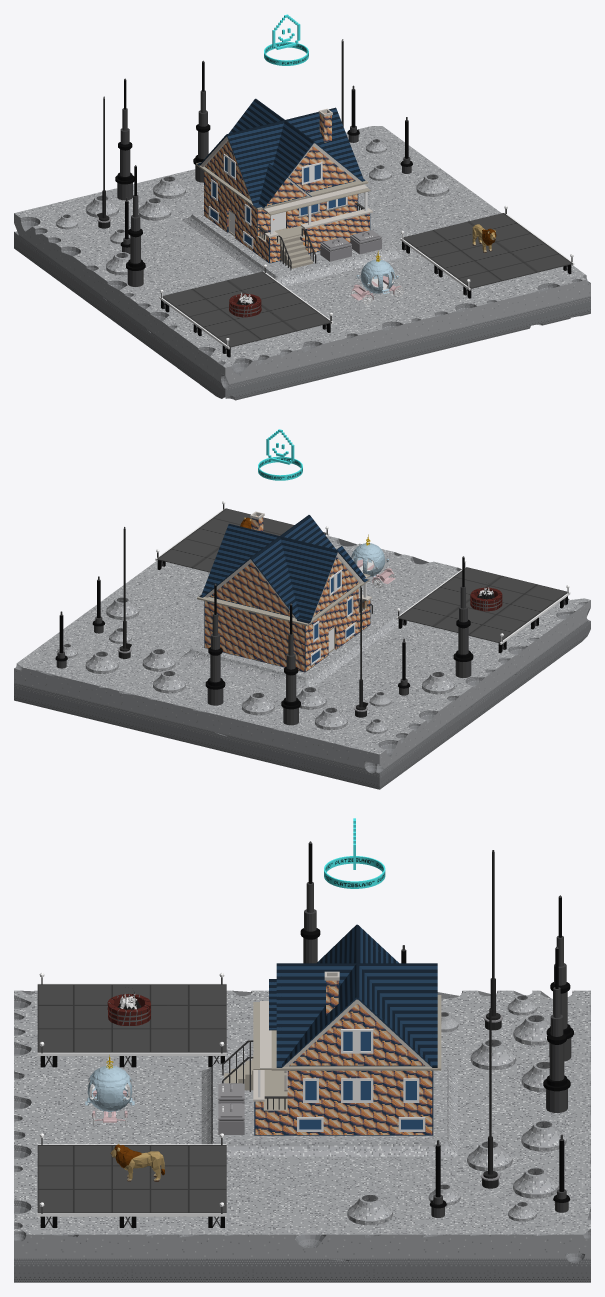
3 views of the same model, one above another, from view 1: azimuth 30°, elevation 25°; view 2: azimuth 150°, elevation 25°; view 3: azimuth 270°, elevation 25° (orthographic). The views are drawn at different scales.
Parts seen in each view (by area): view 1: Cube.027, Cube.430, Cube.026, Cube.025, Cube.028, VEHICLES_FANTASY_CARRIAGE, Cylinder.021, Cylinder.020, Cylinder.017, TYPE_PREMIUM, OBJRANDOM_CAMPFIRE, Cube.029 (+4 smaller); view 2: Cube.027, Cube.430, Cube.025, Cube.028, Cube.026, VEHICLES_FANTASY_CARRIAGE, Cylinder.017, Cylinder.021, Cylinder.020, TYPE_PREMIUM, OBJRANDOM_CAMPFIRE, Cylinder.030 (+8 smaller); view 3: Cube.027, Cube.430, Cube.026, Cube.025, Cube.028, Cylinder.017, VEHICLES_FANTASY_CARRIAGE, Cylinder.020, OBJRANDOM_CAMPFIRE, Cylinder.021, TYPE_PREMIUM, ANIMAL_LEON (+12 smaller).
Part boxes in pixels (x1=…): Cube.027: x1=14, y1=126, x2=590, y2=400; Cube.430: x1=196, y1=98, x2=372, y2=269; Cube.026: x1=400, y1=205, x2=574, y2=298; Cube.025: x1=159, y1=264, x2=333, y2=357; Cube.028: x1=182, y1=211, x2=403, y2=286; VEHICLES_FANTASY_CARRIAGE: x1=350, y1=251, x2=403, y2=304; Cylinder.021: x1=126, y1=165, x2=145, y2=286; Cylinder.020: x1=115, y1=78, x2=134, y2=200; Cylinder.017: x1=193, y1=60, x2=210, y2=182; TYPE_PREMIUM: x1=264, y1=14, x2=308, y2=65; OBJRANDOM_CAMPFIRE: x1=229, y1=292, x2=261, y2=317; Cube.029: x1=320, y1=237, x2=351, y2=261; Cube.027: x1=14, y1=536, x2=590, y2=789; Cube.430: x1=197, y1=511, x2=372, y2=672; Cube.025: x1=396, y1=560, x2=570, y2=653; Cube.028: x1=181, y1=610, x2=398, y2=688; Cube.026: x1=155, y1=501, x2=329, y2=572; VEHICLES_FANTASY_CARRIAGE: x1=351, y1=534, x2=395, y2=588; Cylinder.017: x1=205, y1=583, x2=225, y2=705; Cylinder.021: x1=453, y1=556, x2=473, y2=677; Cylinder.020: x1=281, y1=603, x2=300, y2=725; TYPE_PREMIUM: x1=258, y1=429, x2=302, y2=480; OBJRANDOM_CAMPFIRE: x1=470, y1=587, x2=502, y2=611; Cylinder.030: x1=142, y1=648, x2=175, y2=671; Cube.027: x1=14, y1=990, x2=590, y2=1282; Cube.430: x1=222, y1=924, x2=441, y2=1135; Cube.026: x1=37, y1=1133, x2=226, y2=1227; Cube.025: x1=37, y1=973, x2=226, y2=1067; Cube.028: x1=201, y1=1063, x2=457, y2=1156; Cylinder.017: x1=543, y1=946, x2=570, y2=1112; VEHICLES_FANTASY_CARRIAGE: x1=85, y1=1055, x2=134, y2=1126; Cylinder.020: x1=546, y1=895, x2=573, y2=1061; OBJRANDOM_CAMPFIRE: x1=107, y1=992, x2=150, y2=1025; Cylinder.021: x1=300, y1=841, x2=320, y2=963; TYPE_PREMIUM: x1=324, y1=818, x2=385, y2=888; ANIMAL_LEON: x1=110, y1=1143, x2=164, y2=1181.
Bounding box in the file's own units: 4000 × 2703 × 4000.
Materials: 40 (6 with a texture image).
